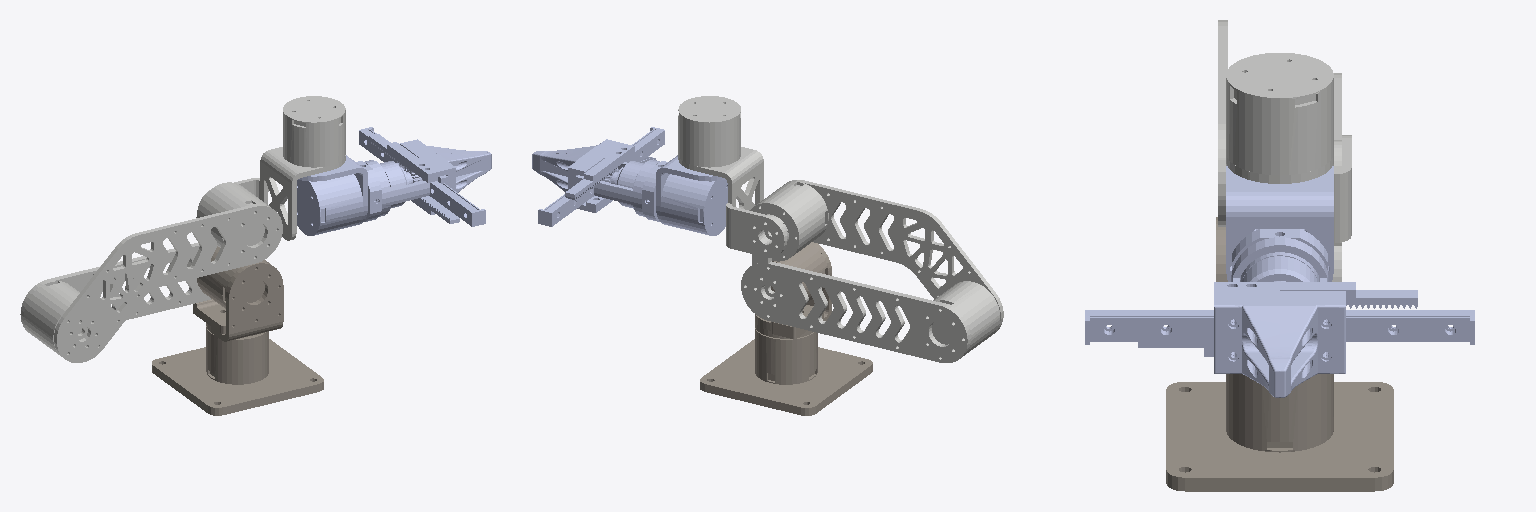
URDF robot description (panther_description):
<?xml version="1.0" encoding="utf-8"?>
<!-- This URDF was automatically created by SolidWorks to URDF Exporter! Originally created by [author] ([email redacted]) 
     Commit Version: 1.6.0-4-g7f85cfe  Build Version: 1.6.7995.38578
     For more information, please see http://wiki.ros.org/sw_urdf_exporter -->
<robot
  name="panther_description">
  <link
    name="base_link">
    <inertial>
      <origin
        xyz="-5.22421768267327E-17 -4.9646319201852E-06 0.00682594884114425"
        rpy="0 0 0" />
      <mass
        value="1.00980967249859" />
      <inertia
        ixx="0.00110668630953746"
        ixy="1.28862263174568E-19"
        ixz="-3.2127004428854E-21"
        iyy="0.0011065522944672"
        iyz="-8.45296879697751E-08"
        izz="0.00216887903845609" />
    </inertial>
    <visual>
      <origin
        xyz="0 0 0"
        rpy="0 0 0" />
      <geometry>
        <mesh
          filename="package://panther_description/meshes/base_link.STL" />
      </geometry>
      <material
        name="">
        <color
          rgba="0.647058823529412 0.619607843137255 0.588235294117647 1" />
      </material>
    </visual>
    <collision>
      <origin
        xyz="0 0 0"
        rpy="0 0 0" />
      <geometry>
        <mesh
          filename="package://panther_description/meshes/base_link.STL" />
      </geometry>
    </collision>
  </link>
  <link
    name="link1">
    <inertial>
      <origin
        xyz="-0.000140138460727448 -0.0115178455380478 -0.0189175974816606"
        rpy="0 0 0" />
      <mass
        value="0.433540348958132" />
      <inertia
        ixx="0.000278935703826545"
        ixy="1.25625050632852E-06"
        ixz="6.95888805367088E-08"
        iyy="0.000266771663216221"
        iyz="6.1414956964764E-05"
        izz="0.000227700191108933" />
    </inertial>
    <visual>
      <origin
        xyz="0 0 0"
        rpy="0 0 0" />
      <geometry>
        <mesh
          filename="package://panther_description/meshes/link1.STL" />
      </geometry>
      <material
        name="">
        <color
          rgba="0.647058823529412 0.619607843137255 0.588235294117647 1" />
      </material>
    </visual>
    <collision>
      <origin
        xyz="0 0 0"
        rpy="0 0 0" />
      <geometry>
        <mesh
          filename="package://panther_description/meshes/link1.STL" />
      </geometry>
    </collision>
  </link>
  <joint
    name="joint1"
    type="revolute">
    <origin
      xyz="0 0 0.1005"
      rpy="0 0 0" />
    <parent
      link="base_link" />
    <child
      link="link1" />
    <axis
      xyz="0 0 1" />
    <limit
      lower="-3.14"
      upper="3.14"
      effort="3"
      velocity="1" />
  </joint>
  <link
    name="link2">
    <inertial>
      <origin
        xyz="0.106425438295557 -3.80251385934116E-12 0.0236077558477278"
        rpy="0 0 0" />
      <mass
        value="0.618785138060723" />
      <inertia
        ixx="0.000203520214080601"
        ixy="2.79264055058398E-19"
        ixz="-1.05315902249166E-07"
        iyy="0.00224499671569178"
        iyz="1.32814298453241E-20"
        izz="0.00238696841123224" />
    </inertial>
    <visual>
      <origin
        xyz="0 0 0"
        rpy="0 0 0" />
      <geometry>
        <mesh
          filename="package://panther_description/meshes/link2.STL" />
      </geometry>
      <material
        name="">
        <color
          rgba="0.827450980392157 0.827450980392157 0.819607843137255 1" />
      </material>
    </visual>
    <collision>
      <origin
        xyz="0 0 0"
        rpy="0 0 0" />
      <geometry>
        <mesh
          filename="package://panther_description/meshes/link2.STL" />
      </geometry>
    </collision>
  </link>
  <joint
    name="joint2"
    type="revolute">
    <origin
      xyz="0 0 0"
      rpy="1.5707963267949 0 3.14159265358979" />
    <parent
      link="link1" />
    <child
      link="link2" />
    <axis
      xyz="0 0 1" />
    <limit
      lower="-3.14"
      upper="3.14"
      effort="3"
      velocity="1" />
  </joint>
  <link
    name="link3">
    <inertial>
      <origin
        xyz="0.112947841031452 0.0109257169593898 0.0234930652223882"
        rpy="0 0 0" />
      <mass
        value="0.578438290721478" />
      <inertia
        ixx="0.000268057561475191"
        ixy="2.74601930728987E-05"
        ixz="3.17939972597626E-08"
        iyy="0.00216726923713696"
        iyz="1.00402096614883E-07"
        izz="0.0023748322005515" />
    </inertial>
    <visual>
      <origin
        xyz="0 0 0"
        rpy="0 0 0" />
      <geometry>
        <mesh
          filename="package://panther_description/meshes/link3.STL" />
      </geometry>
      <material
        name="">
        <color
          rgba="0.827450980392157 0.827450980392157 0.819607843137255 1" />
      </material>
    </visual>
    <collision>
      <origin
        xyz="0 0 0"
        rpy="0 0 0" />
      <geometry>
        <mesh
          filename="package://panther_description/meshes/link3.STL" />
      </geometry>
    </collision>
  </link>
  <joint
    name="joint3"
    type="revolute">
    <origin
      xyz="0.179999999999998 0 0"
      rpy="3.14159265358979 0 2.83491633418811" />
    <parent
      link="link2" />
    <child
      link="link3" />
    <axis
      xyz="0 0 1" />
    <limit
      lower="-3.14"
      upper="3.14"
      effort="3"
      velocity="1" />
  </joint>
  <link
    name="link4">
    <inertial>
      <origin
        xyz="0.0513406245602283 -0.0329058384127011 0.00868209734629183"
        rpy="0 0 0" />
      <mass
        value="0.399529174718196" />
      <inertia
        ixx="0.000329818055330246"
        ixy="0.000104110882896881"
        ixz="8.09376058698959E-05"
        iyy="0.0003603735383472"
        iyz="-6.00949681992951E-05"
        izz="0.000376825850928194" />
    </inertial>
    <visual>
      <origin
        xyz="0 0 0"
        rpy="0 0 0" />
      <geometry>
        <mesh
          filename="package://panther_description/meshes/link4.STL" />
      </geometry>
      <material
        name="">
        <color
          rgba="0.827450980392157 0.827450980392157 0.819607843137255 1" />
      </material>
    </visual>
    <collision>
      <origin
        xyz="0 0 0"
        rpy="0 0 0" />
      <geometry>
        <mesh
          filename="package://panther_description/meshes/link4.STL" />
      </geometry>
    </collision>
  </link>
  <joint
    name="joint4"
    type="revolute">
    <origin
      xyz="0.188809427730714 0 0"
      rpy="3.14159265358979 0 -0.306676319401685" />
    <parent
      link="link3" />
    <child
      link="link4" />
    <axis
      xyz="0 0 1" />
    <limit
      lower="-3.14"
      upper="3.14"
      effort="3"
      velocity="1" />
  </joint>
  <link
    name="link5">
    <inertial>
      <origin
        xyz="2.62314297356869E-16 -0.0160776069634142 -0.0180581657290753"
        rpy="0 0 0" />
      <mass
        value="0.321861622200536" />
      <inertia
        ixx="0.000192352594219116"
        ixy="-9.24994896376521E-20"
        ixz="2.36149112675264E-21"
        iyy="0.000171651346378433"
        iyz="4.05707603604006E-05"
        izz="0.000185377128431133" />
    </inertial>
    <visual>
      <origin
        xyz="0 0 0"
        rpy="0 0 0" />
      <geometry>
        <mesh
          filename="package://panther_description/meshes/link5.STL" />
      </geometry>
      <material
        name="">
        <color
          rgba="0.792156862745098 0.819607843137255 0.933333333333333 1" />
      </material>
    </visual>
    <collision>
      <origin
        xyz="0 0 0"
        rpy="0 0 0" />
      <geometry>
        <mesh
          filename="package://panther_description/meshes/link5.STL" />
      </geometry>
    </collision>
  </link>
  <joint
    name="joint5"
    type="revolute">
    <origin
      xyz="0.08 0 0"
      rpy="-1.5708 1.5708 0" />
    <parent
      link="link4" />
    <child
      link="link5" />
    <axis
      xyz="0 0 1" />
    <limit
      lower="-3.14"
      upper="3.14"
      effort="3"
      velocity="1" />
  </joint>
  <link
    name="link6">
    <inertial>
      <origin
        xyz="-4.35824622879912E-15 -2.3037127760972E-15 -0.0025000000000041"
        rpy="0 0 0" />
      <mass
        value="0.00434717883440458" />
      <inertia
        ixx="3.56917077685088E-07"
        ixy="1.21411373112006E-21"
        ixz="-8.99654936865443E-22"
        iyy="3.56917077685087E-07"
        iyz="2.51615306815575E-22"
        izz="6.95720910226822E-07" />
    </inertial>
    <visual>
      <origin
        xyz="0 0 0"
        rpy="0 0 0" />
      <geometry>
        <mesh
          filename="package://panther_description/meshes/link6.STL" />
      </geometry>
      <material
        name="">
        <color
          rgba="0.827450980392157 0.827450980392157 0.819607843137255 1" />
      </material>
    </visual>
    <collision>
      <origin
        xyz="0 0 0"
        rpy="0 0 0" />
      <geometry>
        <mesh
          filename="package://panther_description/meshes/link6.STL" />
      </geometry>
    </collision>
  </link>
  <joint
    name="joint6"
    type="revolute">
    <origin
      xyz="0 -0.036 0"
      rpy="1.5708 0 0" />
    <parent
      link="link5" />
    <child
      link="link6" />
    <axis
      xyz="0 0 1" />
    <limit
      lower="-3.14"
      upper="3.14"
      effort="3"
      velocity="1" />
  </joint>
  <link
    name="gripper_centor_link">
    <inertial>
      <origin
        xyz="-0.107107907434468 -0.000284330630565321 -3.59780083918573E-09"
        rpy="0 0 0" />
      <mass
        value="0.105344961426715" />
      <inertia
        ixx="0.000121501833753841"
        ixy="-5.32591777920033E-07"
        ixz="-1.30991455486E-12"
        iyy="0.000131132833025858"
        iyz="-1.22715670298721E-16"
        izz="3.14014892995729E-05" />
    </inertial>
    <visual>
      <origin
        xyz="0 0 0"
        rpy="0 0 0" />
      <geometry>
        <mesh
          filename="package://panther_description/meshes/gripper_centor_link.STL" />
      </geometry>
      <material
        name="">
        <color
          rgba="0.792156862745098 0.819607843137255 0.933333333333333 1" />
      </material>
    </visual>
    <collision>
      <origin
        xyz="0 0 0"
        rpy="0 0 0" />
      <geometry>
        <mesh
          filename="package://panther_description/meshes/gripper_centor_link.STL" />
      </geometry>
    </collision>
  </link>
  <joint
    name="gripper_centor_joint"
    type="fixed">
    <origin
      xyz="0 0 0.148"
      rpy="0 -1.5708 0" />
    <parent
      link="link6" />
    <child
      link="gripper_centor_link" />
    <axis
      xyz="0 0 0" />
    <limit
      lower="-3.14"
      upper="3.14"
      effort="3"
      velocity="1" />
  </joint>
  <link
    name="gripper_1_link">
    <inertial>
      <origin
        xyz="-0.0574118738630709 0.00266477929541095 0.00735600840817693"
        rpy="0 0 0" />
      <mass
        value="0.0426889603072748" />
      <inertia
        ixx="1.52455723699562E-05"
        ixy="6.72945744056607E-07"
        ixz="6.51636208168844E-07"
        iyy="1.58145426336727E-05"
        iyz="8.66924269315344E-07"
        izz="1.07532838710952E-05" />
    </inertial>
    <visual>
      <origin
        xyz="0 0 0"
        rpy="0 0 0" />
      <geometry>
        <mesh
          filename="package://panther_description/meshes/gripper_1_link.STL" />
      </geometry>
      <material
        name="">
        <color
          rgba="0.792156862745098 0.819607843137255 0.933333333333333 1" />
      </material>
    </visual>
    <collision>
      <origin
        xyz="0 0 0"
        rpy="0 0 0" />
      <geometry>
        <mesh
          filename="package://panther_description/meshes/gripper_1_link.STL" />
      </geometry>
    </collision>
  </link>
  <joint
    name="gripper_1_joint"
    type="prismatic">
    <origin
      xyz="0 0 0.148"
      rpy="0 -1.5708 0" />
    <parent
      link="link6" />
    <child
      link="gripper_1_link" />
    <axis
      xyz="0 0 1" />
    <limit
      lower="0"
      upper="0.06"
      effort="0.18"
      velocity="1" />
  </joint>
  <link
    name="gripper_2_link">
    <inertial>
      <origin
        xyz="-0.0573873207529981 -0.00294326456557495 -0.00756965143896882"
        rpy="0 0 0" />
      <mass
        value="0.0427537416759649" />
      <inertia
        ixx="1.51969338433752E-05"
        ixy="-6.97375756939916E-07"
        ixz="-6.45626526757555E-07"
        iyy="1.56092033290293E-05"
        iyz="8.99148024231464E-07"
        izz="1.09238615980533E-05" />
    </inertial>
    <visual>
      <origin
        xyz="0 0 0"
        rpy="0 0 0" />
      <geometry>
        <mesh
          filename="package://panther_description/meshes/gripper_2_link.STL" />
      </geometry>
      <material
        name="">
        <color
          rgba="0.792156862745098 0.819607843137255 0.933333333333333 1" />
      </material>
    </visual>
    <collision>
      <origin
        xyz="0 0 0"
        rpy="0 0 0" />
      <geometry>
        <mesh
          filename="package://panther_description/meshes/gripper_2_link.STL" />
      </geometry>
    </collision>
  </link>
  <joint
    name="gripper_2_joint"
    type="prismatic">
    <origin
      xyz="0 0 0.148"
      rpy="0 -1.5708 0" />
    <parent
      link="link6" />
    <child
      link="gripper_2_link" />
    <axis
      xyz="0 0 1" />
    <limit
      lower="0"
      upper="0.06"
      effort="0.18"
      velocity="1" />
    <mimic
      joint="gripper_1_joint"
      multiplier="-1"
      offset="0" />
  </joint>
</robot>

--- Facts derived from the render (not from the file) ---
Views: 3 orthographic renders of the robot side by side, from view 1: azimuth 30°, elevation 25°; view 2: azimuth 150°, elevation 25°; view 3: azimuth 270°, elevation 25°.
Robot: panther_description — 10 links, 9 joints (6 revolute, 2 prismatic, 1 fixed); root link base_link; default pose: all joints at 0.
Links seen in each view (by area): view 1: link3, base_link, link4, link1, link2, link5, gripper_centor_link, gripper_2_link, gripper_1_link; view 2: link2, link3, base_link, link4, link5, gripper_centor_link, gripper_1_link, link1, gripper_2_link; view 3: base_link, link4, gripper_centor_link, gripper_2_link, link5, gripper_1_link, link3, link2, link1.
Boxes of the visible links, x1,y1,x2,y2 form: link3: [54, 182, 282, 362]; base_link: [152, 326, 323, 415]; link4: [198, 96, 345, 240]; link1: [193, 246, 283, 341]; link2: [20, 243, 210, 354]; link5: [297, 155, 367, 235]; gripper_centor_link: [356, 127, 485, 226]; gripper_2_link: [369, 134, 491, 192]; gripper_1_link: [400, 139, 487, 223]; link2: [741, 261, 999, 362]; link3: [750, 180, 1003, 333]; base_link: [700, 328, 872, 415]; link4: [678, 96, 788, 264]; link5: [656, 155, 727, 235]; gripper_centor_link: [538, 127, 667, 226]; gripper_1_link: [532, 152, 656, 212]; link1: [755, 242, 831, 338]; gripper_2_link: [536, 139, 634, 199]; base_link: [1166, 374, 1393, 491]; link4: [1226, 53, 1351, 245]; gripper_centor_link: [1085, 229, 1474, 344]; gripper_2_link: [1214, 282, 1417, 397]; link5: [1226, 166, 1333, 281]; gripper_1_link: [1138, 291, 1345, 397]; link3: [1218, 20, 1227, 226]; link2: [1332, 73, 1341, 281]; link1: [1216, 217, 1227, 281].
Size in the robot's own frame: 0.4725 by 0.206 by 0.2515 metres.
Meshes: 10 distinct files referenced, 10 mesh visuals loaded (10 binary STL).